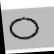no answer: (6, 16, 44, 42)
